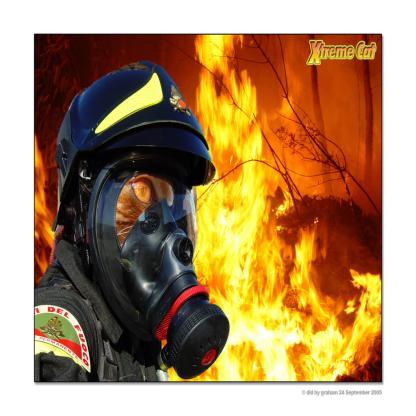Helmet: (51, 60, 231, 380)
